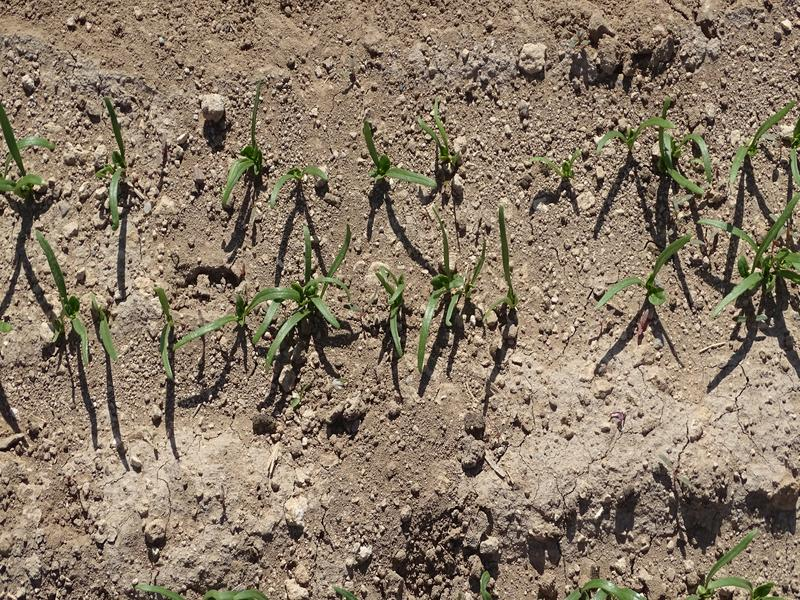Espinaca: (161, 220, 353, 372), (728, 106, 800, 311), (416, 216, 488, 373), (29, 232, 117, 356), (609, 109, 716, 192), (357, 115, 460, 194), (596, 233, 695, 313), (221, 88, 268, 197), (1, 103, 55, 196), (96, 99, 128, 217), (379, 259, 411, 356), (272, 158, 323, 209), (493, 204, 512, 315), (540, 149, 577, 177)
